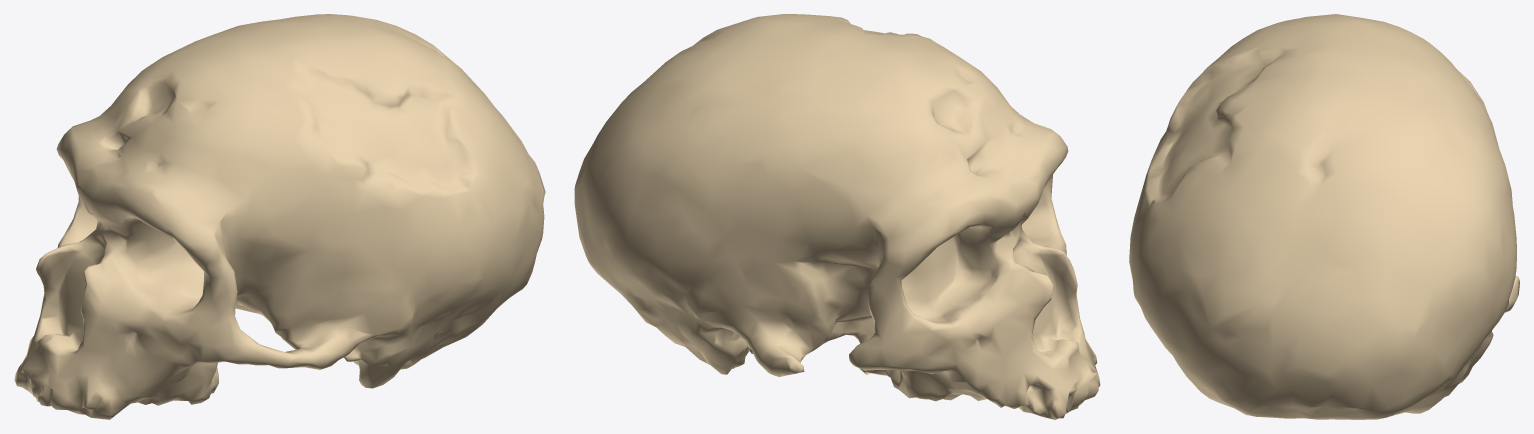
File: nean.glb
3 views of the same model, side by side, from view 1: azimuth 30°, elevation 25°; view 2: azimuth 150°, elevation 25°; view 3: azimuth 270°, elevation 25° (orthographic). The views are drawn at different scales.
Bounding box in the file's own units: 0.2269 × 0.1356 × 0.1521.
